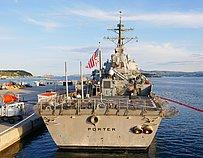MIL_Ship: (37, 17, 178, 151)
